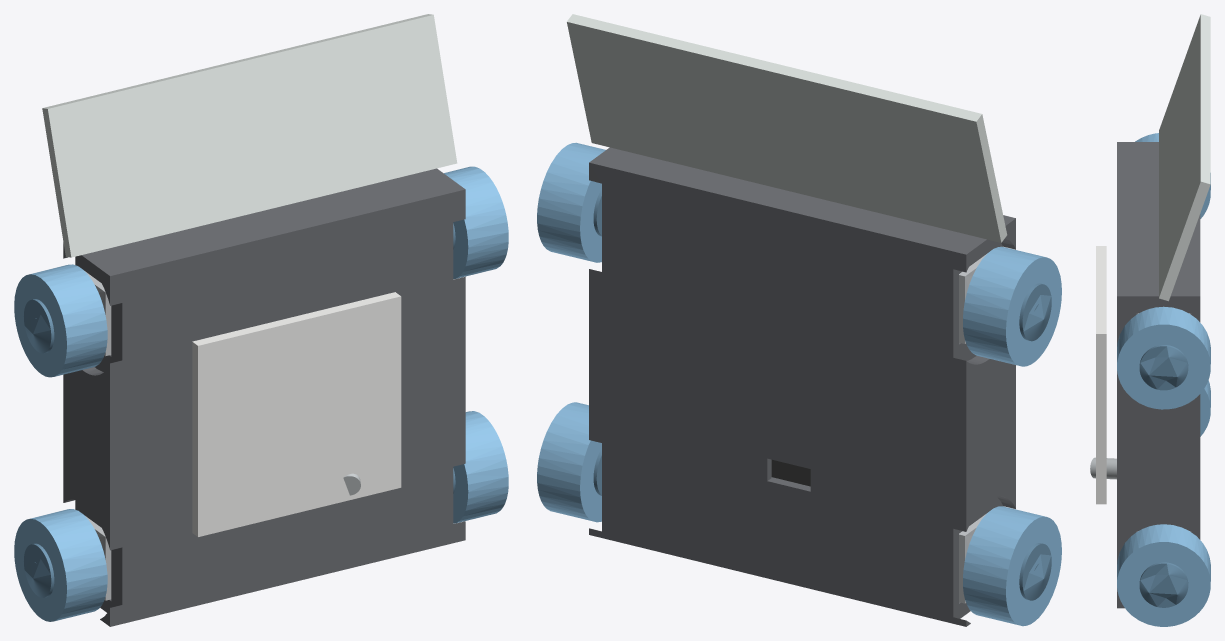
The model's file is termite_cluster.glb.
3 renders of one model, left to right at view 1: azimuth 30°, elevation 25°; view 2: azimuth 150°, elevation 25°; view 3: azimuth 270°, elevation 25°, orthographic. The views are drawn at different scales.
Visible parts, largest first — view 1: chassis, scoop, lid, wheel_r0, wheel_r1, wheel_l1, wheel_l0, dt_hub_wheel_r1, dt_hub_wheel_r0; view 2: chassis, scoop, wheel_r0, wheel_r1, wheel_l1, wheel_l0, dt_hub_wheel_r1, dt_hub_wheel_r0, el_switch; view 3: chassis, scoop, wheel_l1, wheel_l0, lid, dt_hub_wheel_l1, dt_hub_wheel_l0, wheel_r0, dt_strut_lid, wheel_r1.
Boxes of the visible parts, left/top/right/bottom form: chassis: left=63, top=168, right=465, bottom=626; scoop: left=42, top=14, right=457, bottom=257; lid: left=192, top=292, right=401, bottom=536; wheel_r0: left=14, top=509, right=107, bottom=621; wheel_r1: left=14, top=264, right=107, bottom=377; wheel_l1: left=444, top=166, right=508, bottom=279; wheel_l0: left=453, top=411, right=508, bottom=523; dt_hub_wheel_r1: left=24, top=299, right=54, bottom=353; dt_hub_wheel_r0: left=24, top=543, right=54, bottom=597; chassis: left=589, top=147, right=1015, bottom=626; scoop: left=567, top=14, right=1007, bottom=242; wheel_r0: left=963, top=506, right=1061, bottom=626; wheel_r1: left=963, top=246, right=1061, bottom=366; wheel_l1: left=537, top=142, right=605, bottom=262; wheel_l0: left=537, top=402, right=601, bottom=522; dt_hub_wheel_r1: left=1019, top=283, right=1051, bottom=341; dt_hub_wheel_r0: left=1019, top=543, right=1051, bottom=600; el_switch: left=771, top=459, right=810, bottom=486; chassis: left=1117, top=142, right=1200, bottom=608; scoop: left=1159, top=14, right=1210, bottom=301; wheel_l1: left=1117, top=306, right=1210, bottom=409; wheel_l0: left=1117, top=524, right=1210, bottom=626; lid: left=1096, top=246, right=1106, bottom=504; dt_hub_wheel_l1: left=1139, top=345, right=1188, bottom=390; dt_hub_wheel_l0: left=1139, top=562, right=1188, bottom=607; wheel_r0: left=1200, top=380, right=1210, bottom=436; dt_strut_lid: left=1090, top=457, right=1116, bottom=479; wheel_r1: left=1135, top=133, right=1210, bottom=218.
Size of the model in its own units: 90.28 by 91.67 by 23.14.
